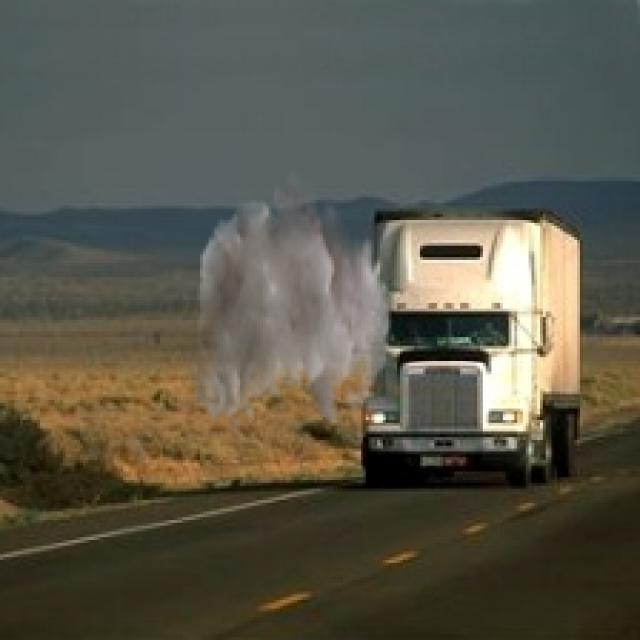smoke: (188, 168, 392, 432)
